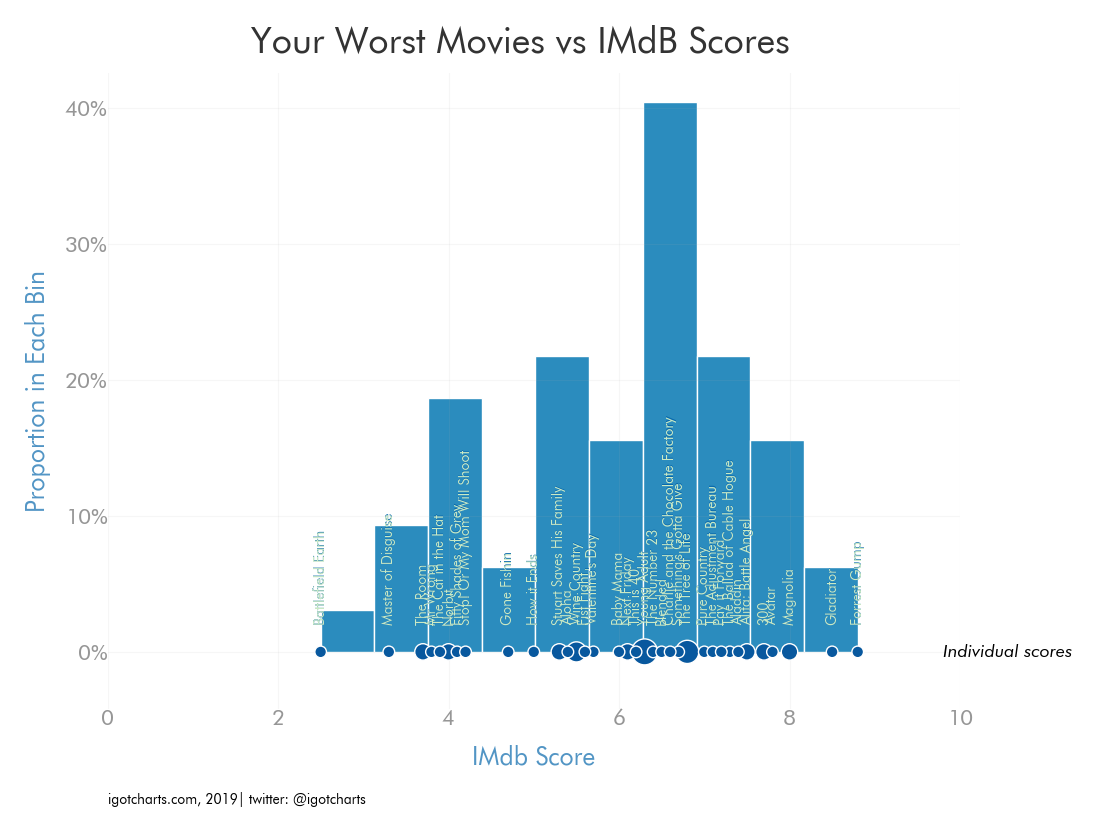

What the dashboard file says about the page in this screenshot:
{"tool":"tableau","page":{"name":"Dashboard 1","canvas":[1000,700],"ordinal":0},"visuals":[{"type":"worksheet","title":"Sheet 1","mark":"Shape","rows":["Function"],"cols":["Chart Type"],"box":[7,10,934,584]},{"type":"worksheet","title":"column totals","mark":"Automatic","cols":["Chart Type"],"box":[166,608,777,31]}]}

Visuals, with their boxes on the page's 1000x700 design canvas (x1, y1, x2, y2). These are canvas units, not pixel positions in the 1097x832 screenshot, which may show the page scaled, cropped or inside an application window:
"Sheet 1" worksheet (Shape marks): [left=7, top=10, right=941, bottom=594]
"column totals" worksheet: [left=166, top=608, right=943, bottom=639]
